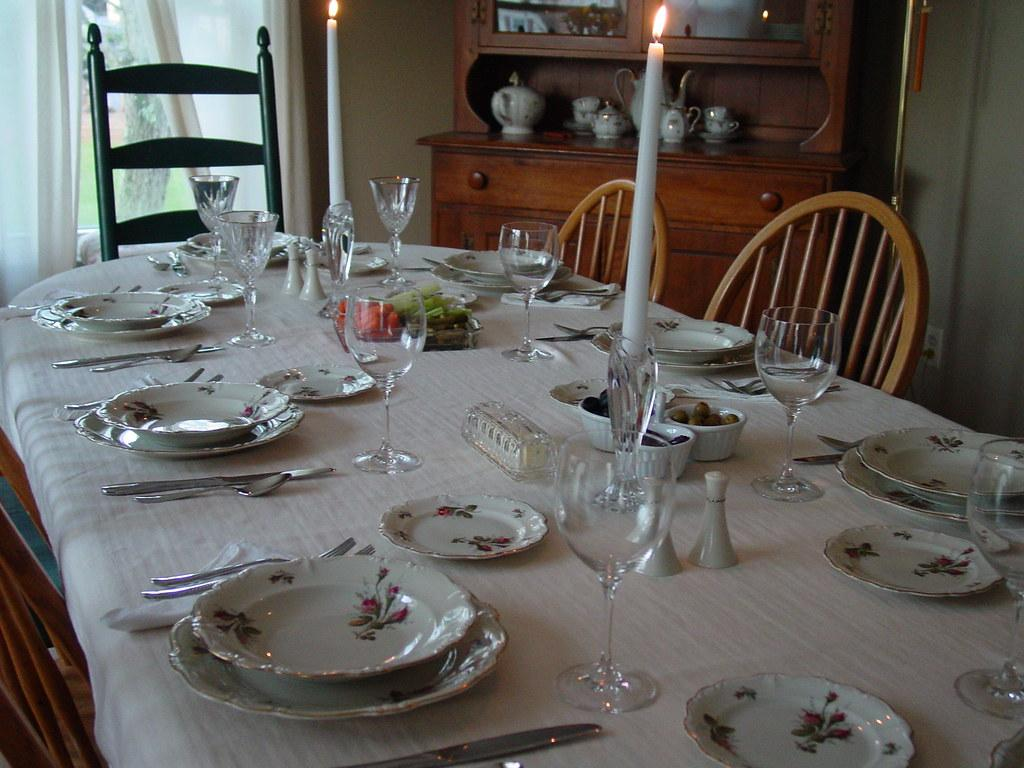table: (2, 236, 1022, 766)
